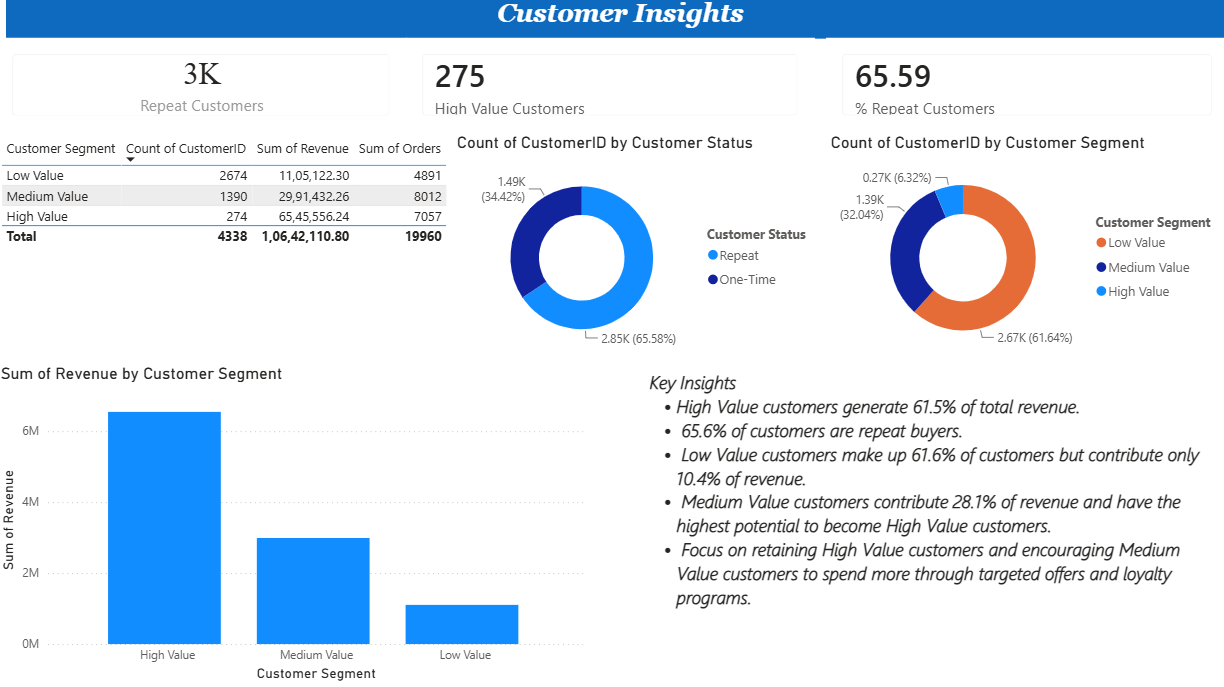

This screenshot's page, from the dashboard's own definition file:
{"tool":"powerbi","page":{"name":"Customer Insights","canvas":[1280,720],"ordinal":1},"visuals":[{"type":"textbox","box":[0,0,1280.5,46.8],"z":0},{"type":"donutChart","title":"Customer Status","fields":{"Category":["Customer Summary.Customer Status"],"Y":["CountNonNull(Customer Summary.CustomerID)"]},"box":[473.8,144.3,388.5,241],"z":1000},{"type":"tableEx","title":"Segment Table","fields":{"Values":["Customer Summary.Customer Segment","CountNonNull(Customer Summary.CustomerID)","Sum(Customer Summary.Revenue)","Sum(Customer Summary.Orders)"]},"box":[0,144.2,474,240.3],"z":2000},{"type":"clusteredColumnChart","title":"Revenue by Customer Segment","fields":{"Category":["Customer Summary.Customer Segment"],"Y":["Sum(Customer Summary.Revenue)"]},"box":[0,384.4,674,335.1],"z":3000},{"type":"donutChart","title":"Customer Segment","fields":{"Category":["Customer Summary.Customer Segment"],"Y":["CountNonNull(Customer Summary.CustomerID)"]},"box":[862.3,144.3,418,241],"z":4000},{"type":"cardVisual","fields":{"Data":["Customer Summary.Repeat Customers"]},"box":[0,45.9,426.2,98.4],"z":5000},{"type":"cardVisual","fields":{"Data":["Customer Summary.High Value Customers"]},"box":[426.2,45.9,424.6,98.4],"z":6000},{"type":"cardVisual","fields":{"Data":["Customer Summary.% Repeat Customers"]},"box":[850.6,45.5,429.9,98.7],"z":7000},{"type":"textbox","box":[674,384.4,606.5,335.1],"z":8000}]}

Visuals, with their boxes in screenshot pixels (x1, y1, x2, y2), scaled from the page's 1280x720 canvas onto the 1224x687 screenshot:
textbox: BBox(0, 0, 1223, 45)
"Customer Status" donutChart: BBox(453, 138, 825, 368)
"Segment Table" tableEx: BBox(0, 138, 453, 367)
"Revenue by Customer Segment" clusteredColumnChart: BBox(0, 367, 645, 686)
"Customer Segment" donutChart: BBox(825, 138, 1223, 368)
cardVisual - Customer Summary.Repeat Customers: BBox(0, 44, 408, 138)
cardVisual - Customer Summary.High Value Customers: BBox(408, 44, 814, 138)
cardVisual - Customer Summary.% Repeat Customers: BBox(813, 43, 1223, 138)
textbox: BBox(645, 367, 1223, 686)
